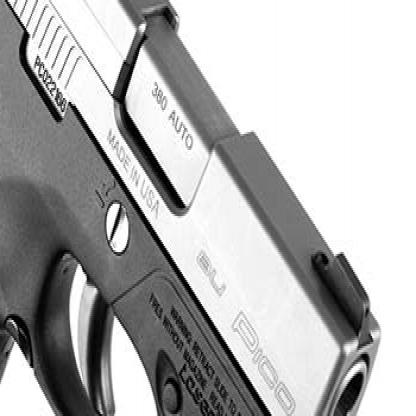gun: (0, 0, 397, 414)
